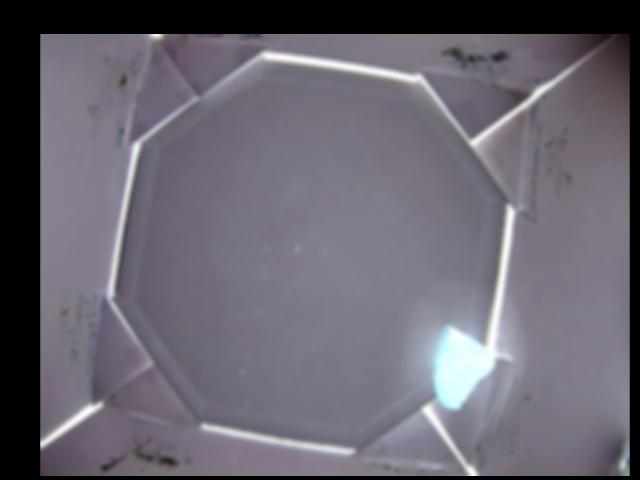Brisk: (431, 327, 498, 412)
